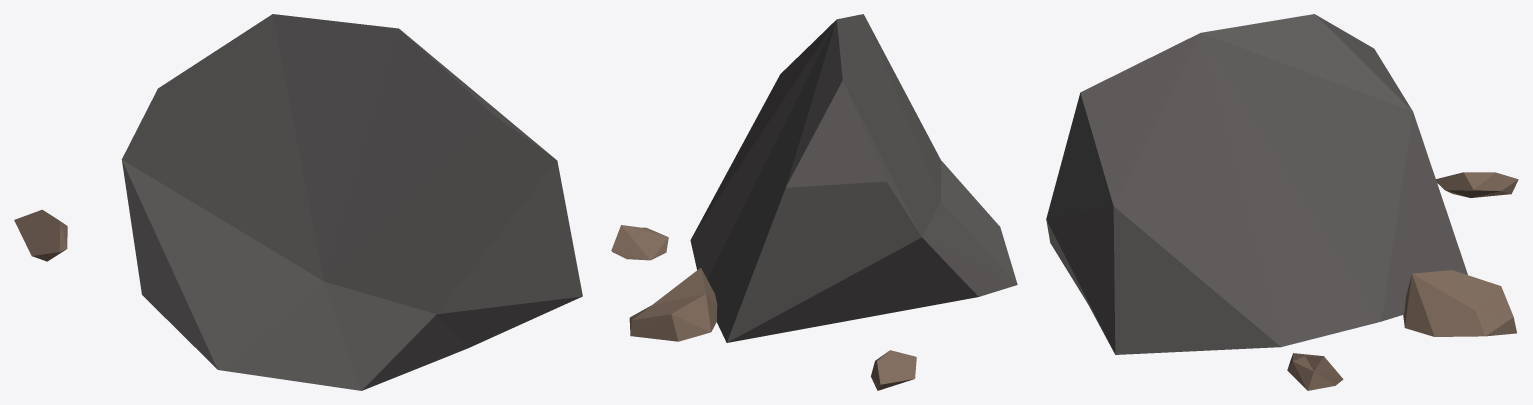
Rendered from Stone 7.glb.
3 views of the same model, side by side, from view 1: azimuth 30°, elevation 25°; view 2: azimuth 150°, elevation 25°; view 3: azimuth 270°, elevation 25° (orthographic). The views are drawn at different scales.
Parts seen in each view (by area): view 1: Stone 7; view 2: Stone 7; view 3: Stone 7.
Boxes of the visible parts, x1=… form: Stone 7: x1=14, y1=14, x2=582, y2=390; Stone 7: x1=611, y1=14, x2=1017, y2=390; Stone 7: x1=1046, y1=14, x2=1518, y2=390.
Size of what is drawn, in the model's own units: 2.18 by 1.39 by 2.15.
Materials: 1 (1 with a texture image).
